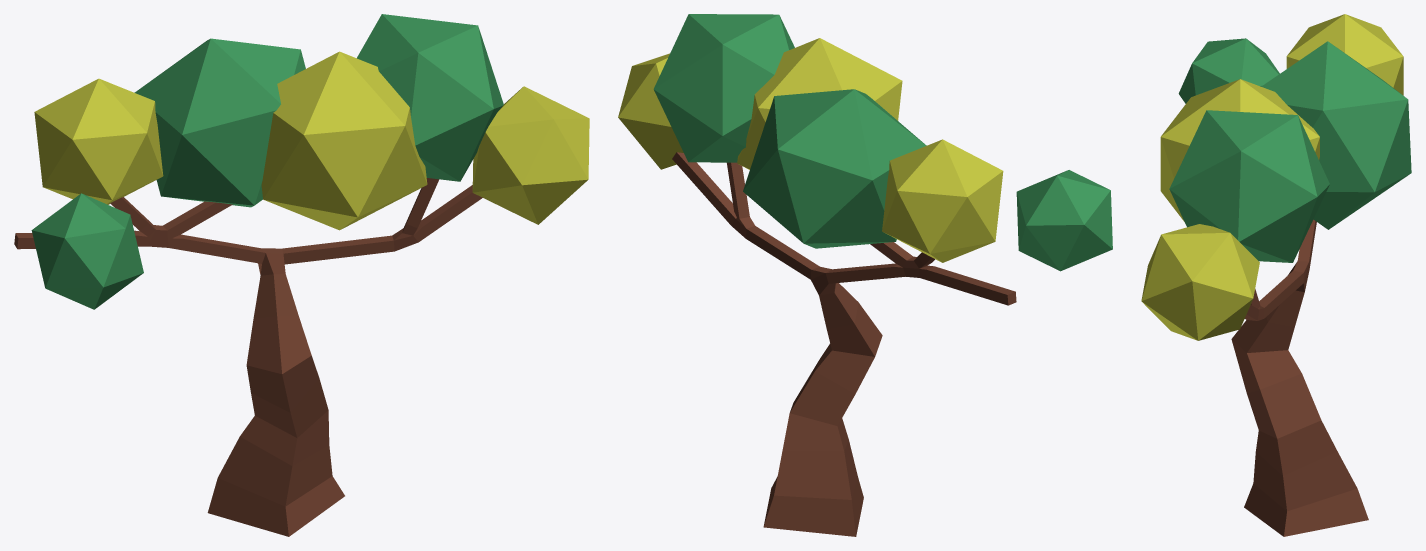
Rendered from treeB.fbx.
The picture shows the model from 3 angles, left to right: view 1: azimuth 30°, elevation 25°; view 2: azimuth 150°, elevation 25°; view 3: azimuth 270°, elevation 25°; orthographic projection. The views are drawn at different scales.
Visible parts, largest first — view 1: Cube.001, Icosphere.006, Icosphere.010, Icosphere.009, Icosphere.011, Icosphere.008, Icosphere.007; view 2: Cube.001, Icosphere.010, Icosphere.009, Icosphere.011, Icosphere.007, Icosphere.006, Icosphere.008; view 3: Cube.001, Icosphere.009, Icosphere.010, Icosphere.008, Icosphere.006, Icosphere.011, Icosphere.007.
Part boxes in pixels (x1,y1,x2,y2): Cube.001: (14,178,482,536); Icosphere.006: (261,51,427,230); Icosphere.010: (134,38,305,207); Icosphere.009: (357,14,503,181); Icosphere.011: (34,78,163,204); Icosphere.008: (472,86,589,224); Icosphere.007: (31,193,143,309); Cube.001: (672,152,1016,536); Icosphere.010: (743,89,926,248); Icosphere.009: (653,14,794,162); Icosphere.011: (882,139,1003,262); Icosphere.007: (1016,170,1112,271); Icosphere.006: (737,38,902,169); Icosphere.008: (618,53,683,169); Cube.001: (1231,219,1368,536); Icosphere.009: (1169,110,1329,262); Icosphere.010: (1261,41,1411,229); Icosphere.008: (1141,224,1259,340); Icosphere.006: (1160,79,1319,221); Icosphere.011: (1286,14,1403,95); Icosphere.007: (1178,38,1279,103).
Size of the model in its own units: 3.19 by 2.74 by 1.49.
